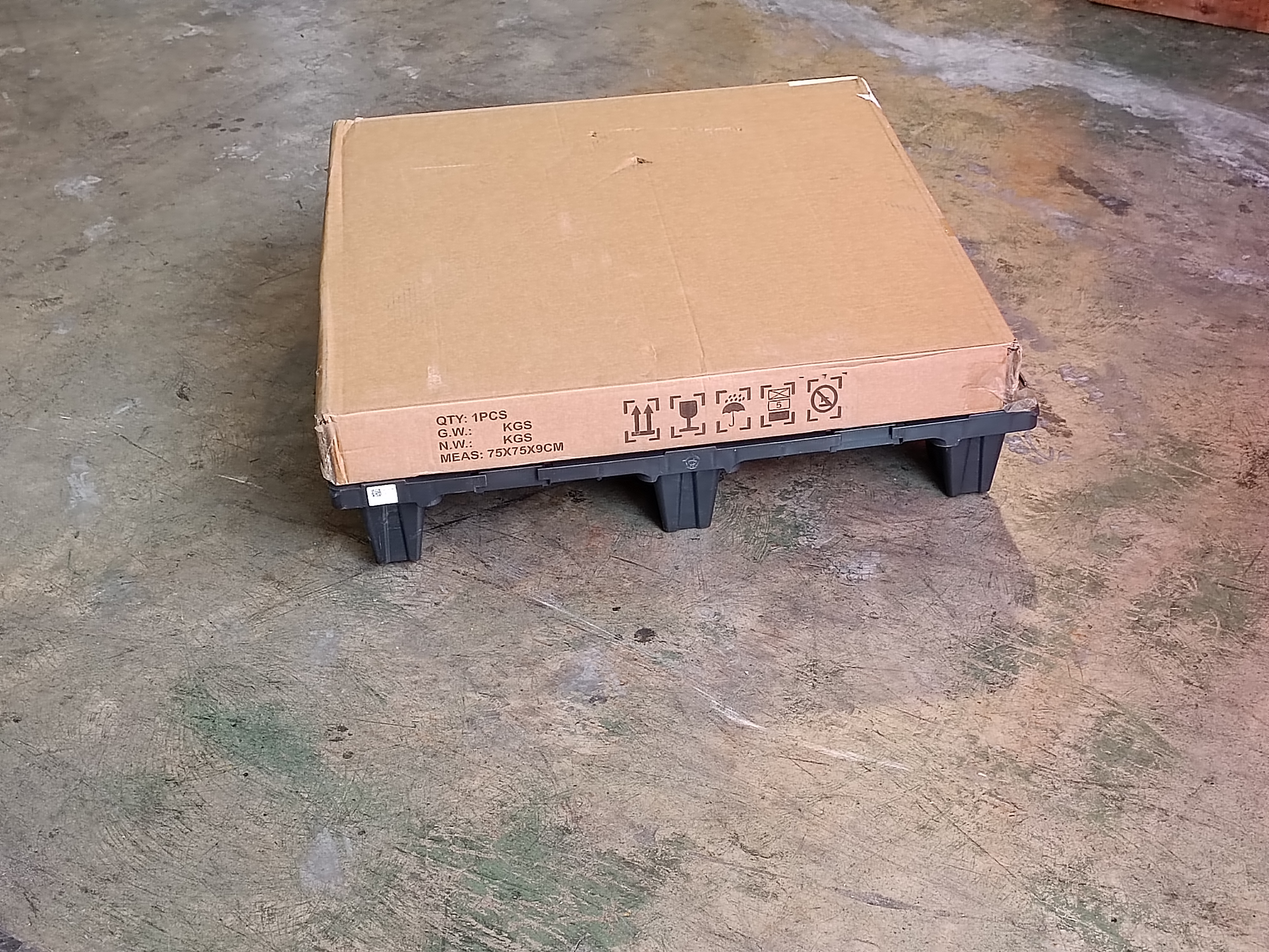block: (336, 478, 424, 567), (638, 452, 726, 530), (945, 412, 1011, 501)
front: (348, 402, 1053, 571)
hole pallet: (417, 472, 667, 557), (715, 442, 949, 532)
